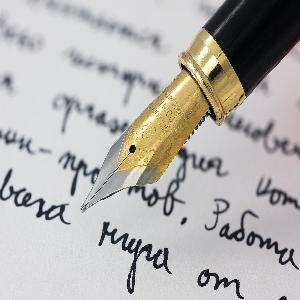pen: (80, 1, 299, 213)
